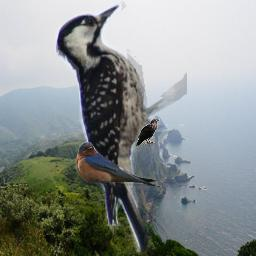Crow: (135, 118, 160, 146)
Swallow: (75, 142, 166, 189)
Woodpecker: (53, 0, 187, 252)
